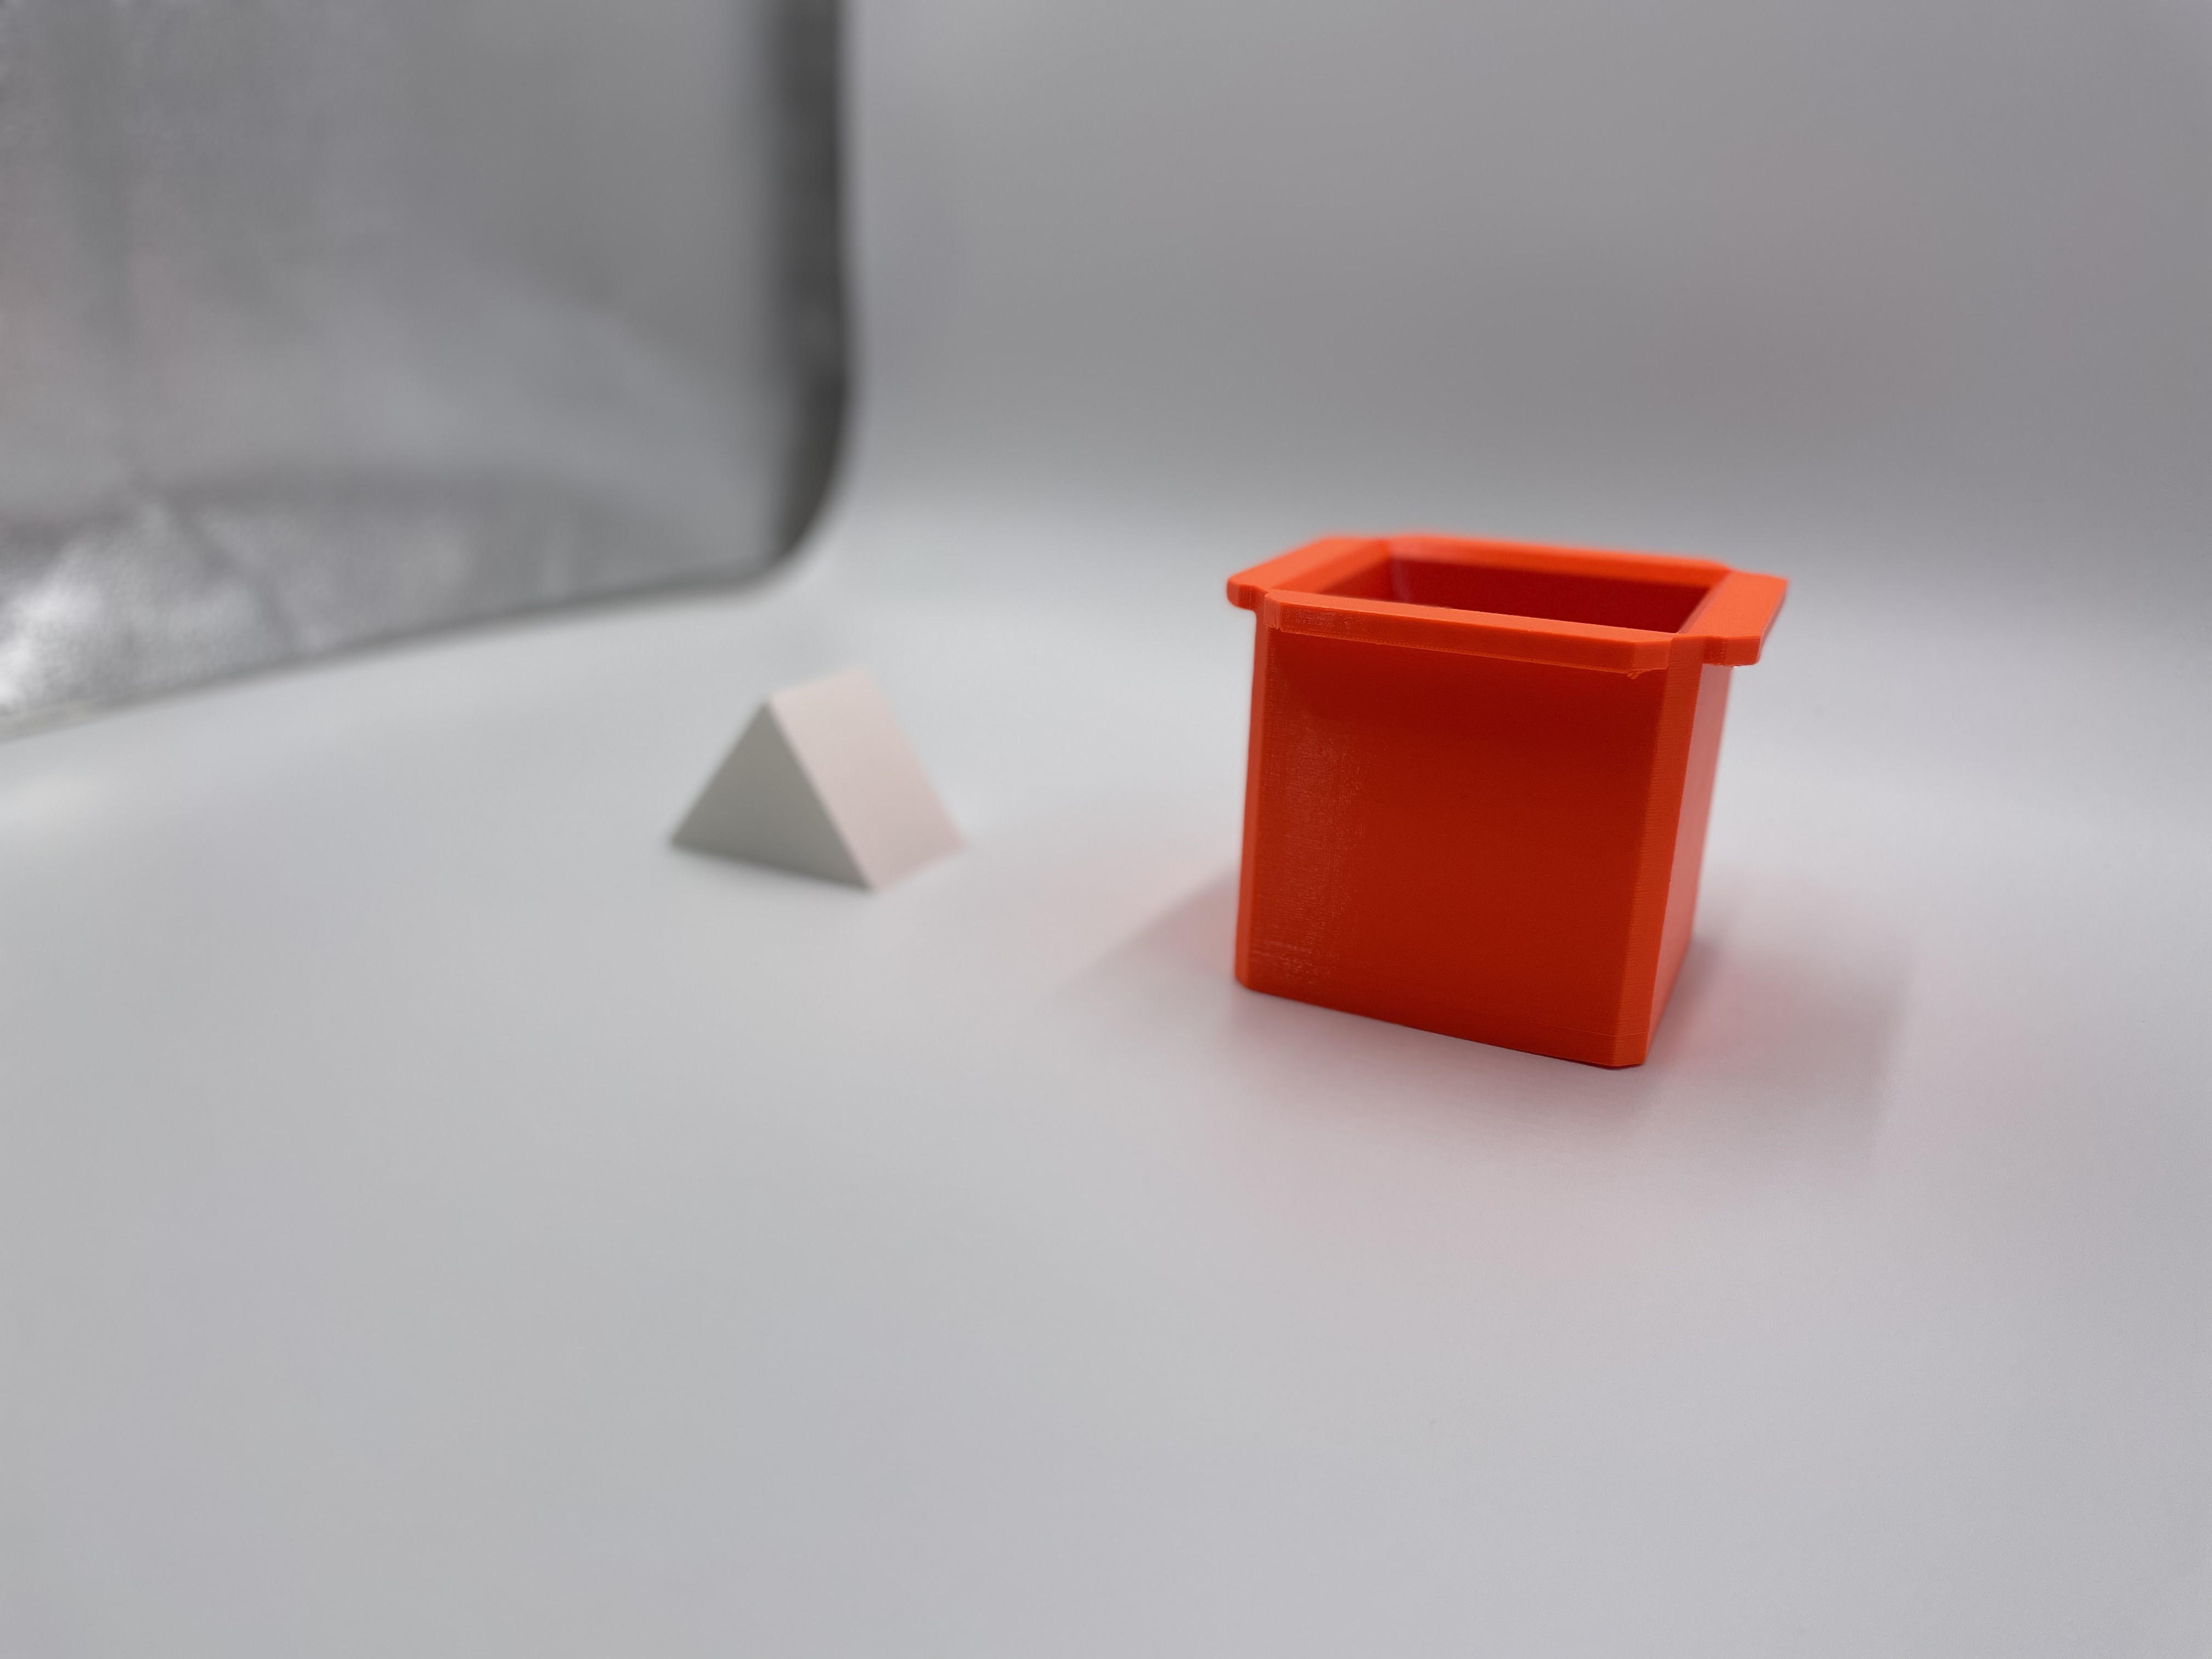payload1: (1212, 521, 1797, 1093)
payload2: (662, 648, 991, 936)
